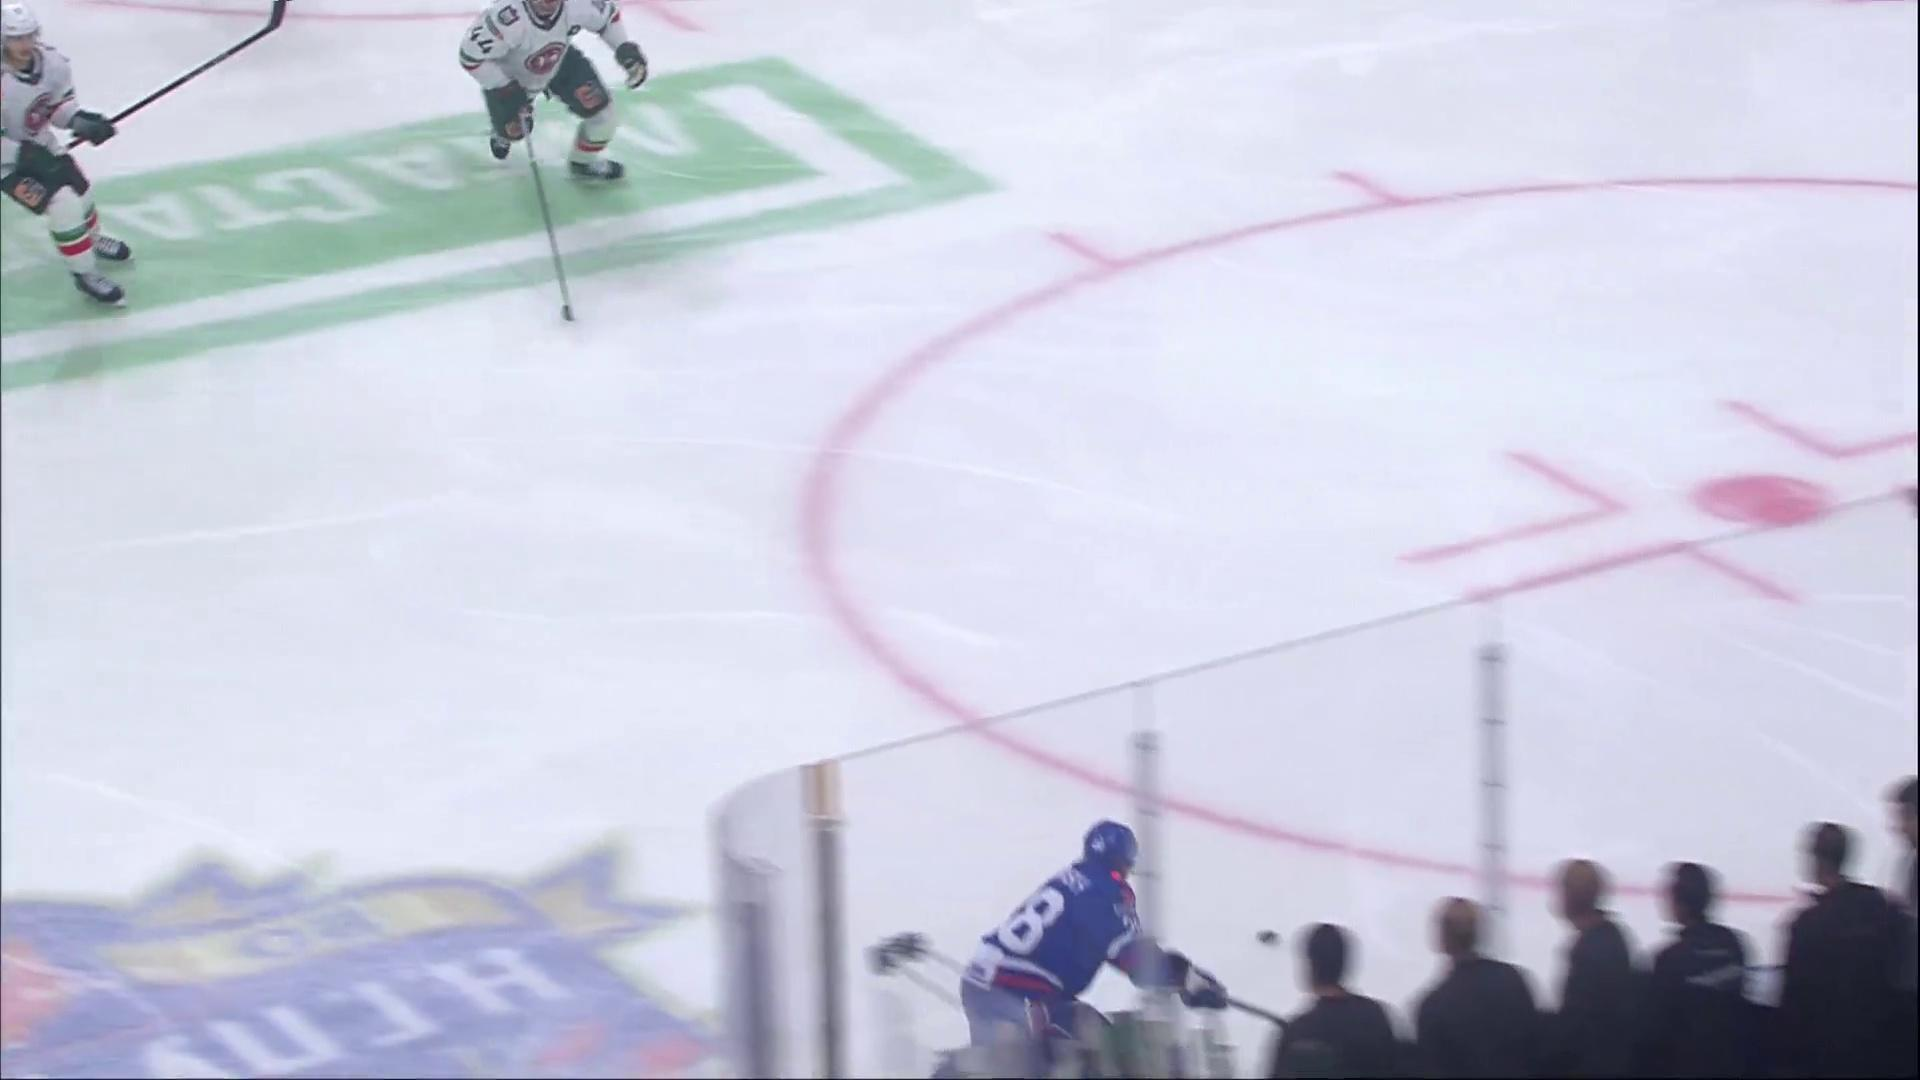ball: (1257, 931, 1278, 945)
